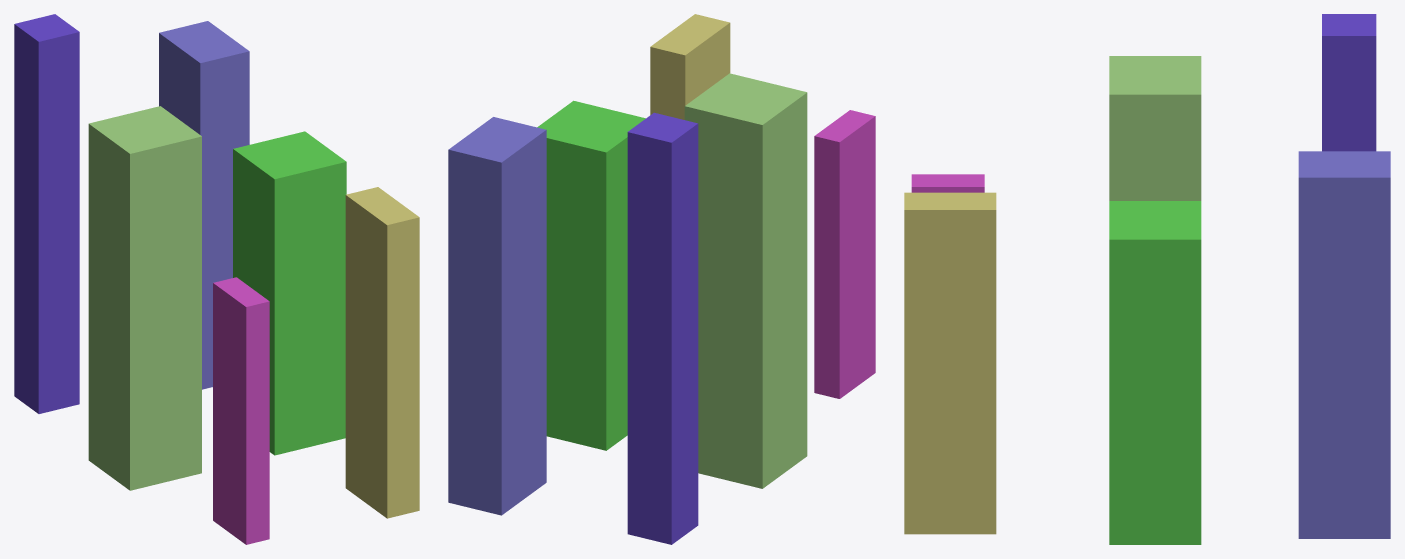
Rendered from buildings.fbx.
3 renders of one model, left to right at view 1: azimuth 30°, elevation 25°; view 2: azimuth 150°, elevation 25°; view 3: azimuth 270°, elevation 25°, orthographic. The views are drawn at different scales.
Visible parts, largest first — view 1: Cube.003, Cube, Cube.004, Cube.002, Cube.001, Cube.005; view 2: Cube.003, Cube.001, Cube.004, Cube, Cube.005, Cube.002; view 3: Cube.001, Cube, Cube.002, Cube.003, Cube.004, Cube.005.
Part boxes in pixels (x1,y1,x2,y2): Cube.003: (88,106,201,490); Cube: (233,131,346,455); Cube.004: (14,14,79,413); Cube.002: (345,187,419,518); Cube.001: (159,21,249,389); Cube.005: (213,277,269,544); Cube.003: (684,73,807,488); Cube.001: (448,117,546,515); Cube.004: (627,112,698,544); Cube: (537,100,645,450); Cube.005: (814,110,875,398); Cube.002: (650,14,730,119); Cube.001: (1298,151,1390,538); Cube: (1109,201,1201,544); Cube.002: (904,192,996,534); Cube.003: (1109,56,1201,200); Cube.004: (1322,14,1376,151); Cube.005: (911,174,984,192).
Bounding box in the file's own units: 6.02 × 10.02 × 10.59.
